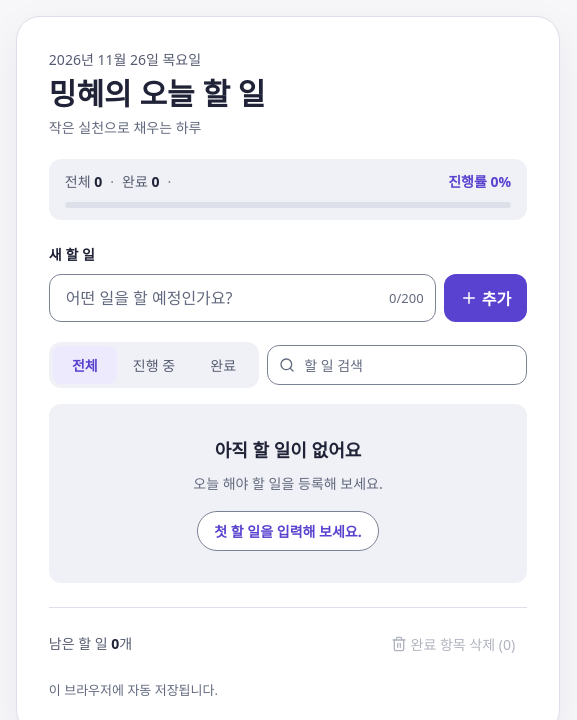
Test case: App Component Integration › 개별 삭제 및 실행 취소 스낵바 인터랙션이 올바르게 동작한다
In the field with placeholder "어떤 일을 할 예정인가요?": (242, 298) 49,274 -> 436,322, type "삭제할 할 일"
Then press Enter
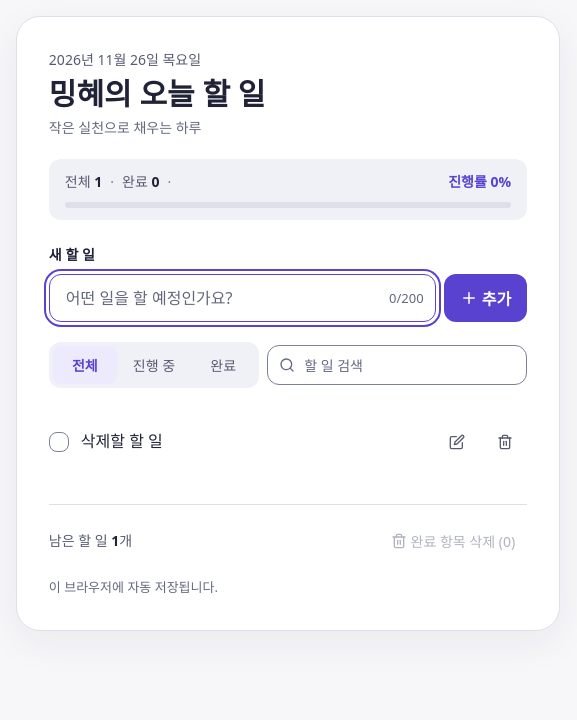
Click the button named "\"삭제할 할 일\" 삭제": (505, 442) 483,420 -> 527,464
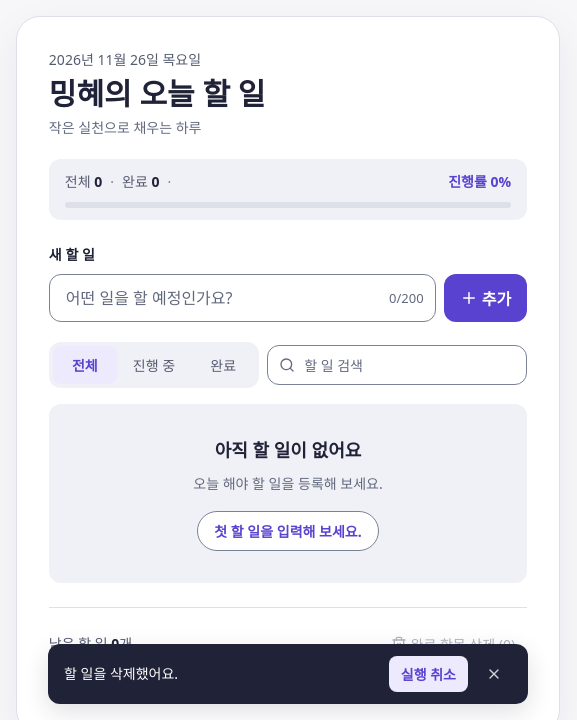
Now the text "삭제할 할 일" is gone
Now the message named "실행 취소 알림" shows "할 일을 삭제했어요.", box 64,664 -> 178,683
Click the button named "\"삭제할 할 일\" 삭제 실행 취소": (428, 674) 389,656 -> 468,692
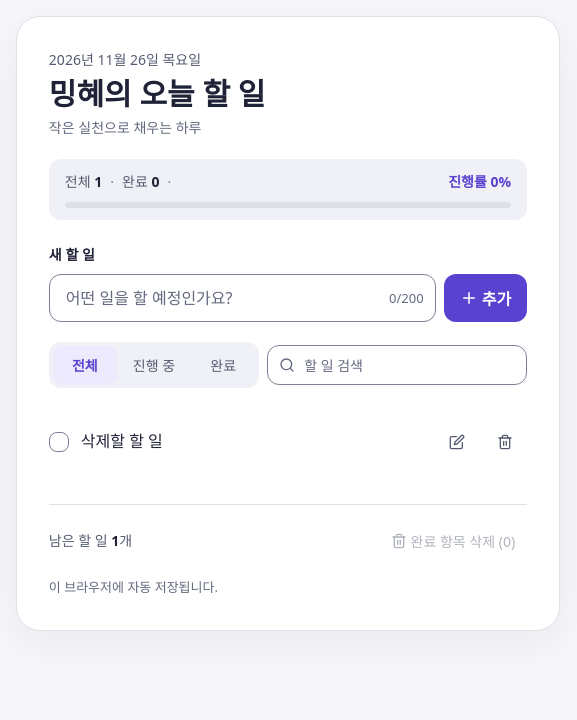
Now the text "삭제할 할 일" is shown, box 81,429 -> 163,455
